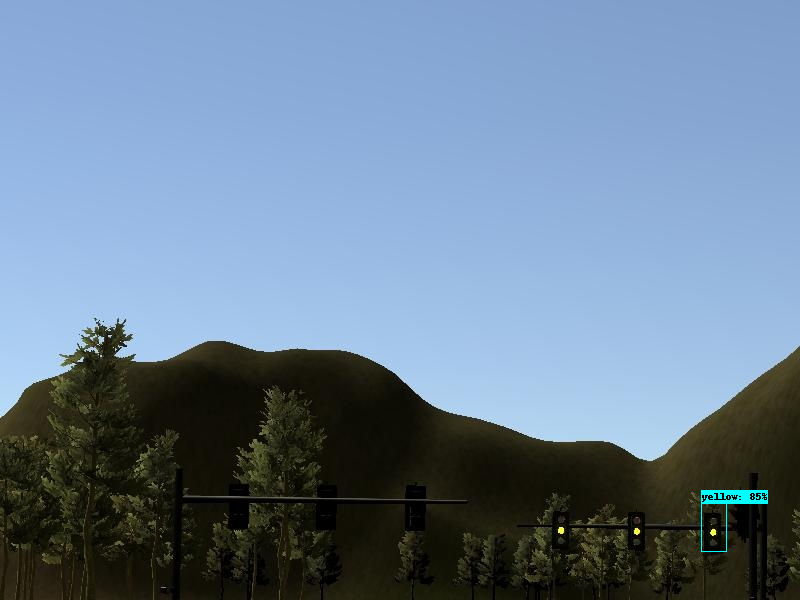yellow: (551, 509, 569, 555), (627, 512, 647, 552), (702, 512, 722, 552)
